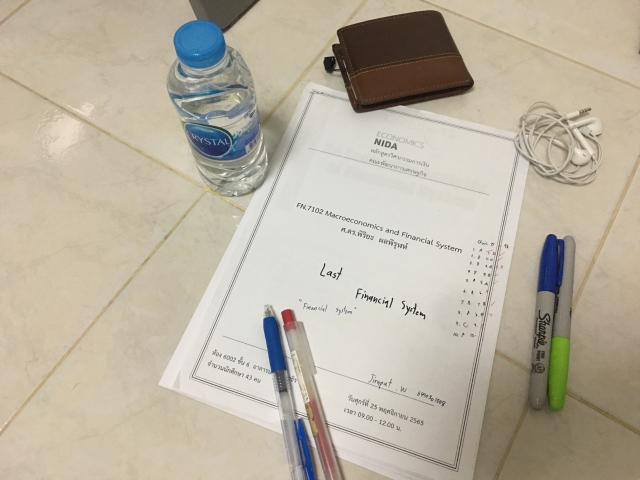Pen: (281, 310, 341, 480), (264, 305, 315, 480), (529, 233, 575, 411)
Wallet: (332, 11, 474, 112)
bottle: (168, 20, 268, 196)
paper: (160, 84, 529, 479)
wire: (515, 101, 602, 185)
